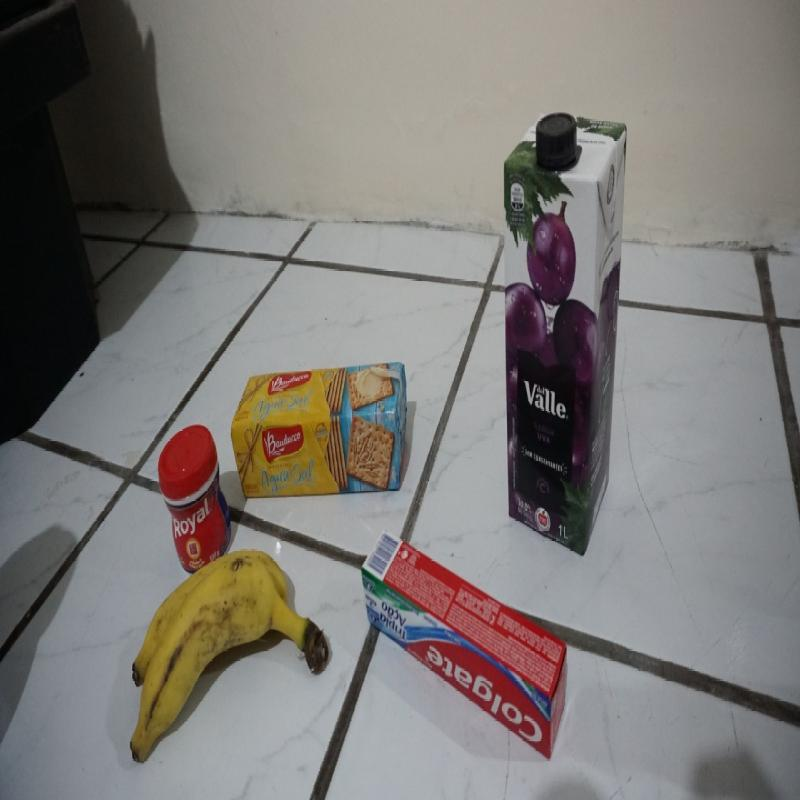Banana: (95, 540, 328, 736)
Cracker: (232, 364, 406, 500)
Toothpaste: (360, 540, 568, 760)
Yeast: (154, 431, 232, 556)
